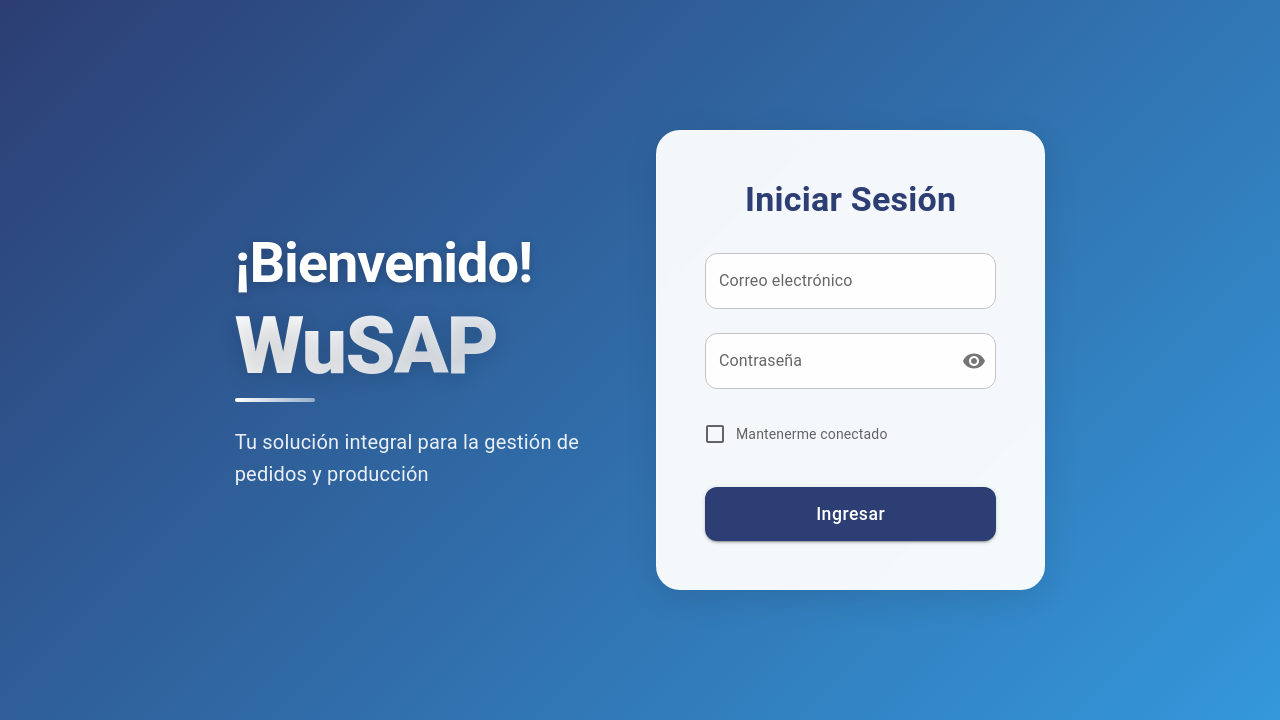
Login Page › shows error when fields are empty
Click the button "Ingresar" at (851, 514), box [705,487,996,541]
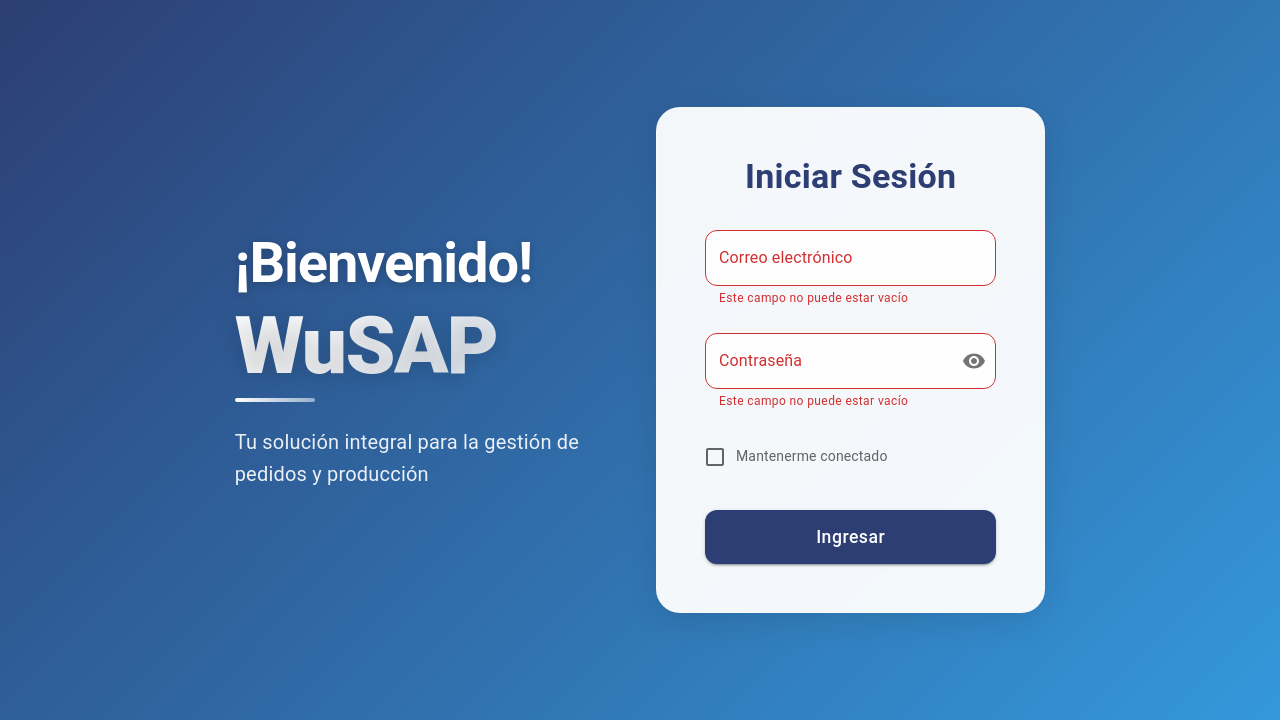
Expected: the text "Este campo no puede estar vacío" is shown 2 times, [719,291,908,305]; [719,394,908,408]
